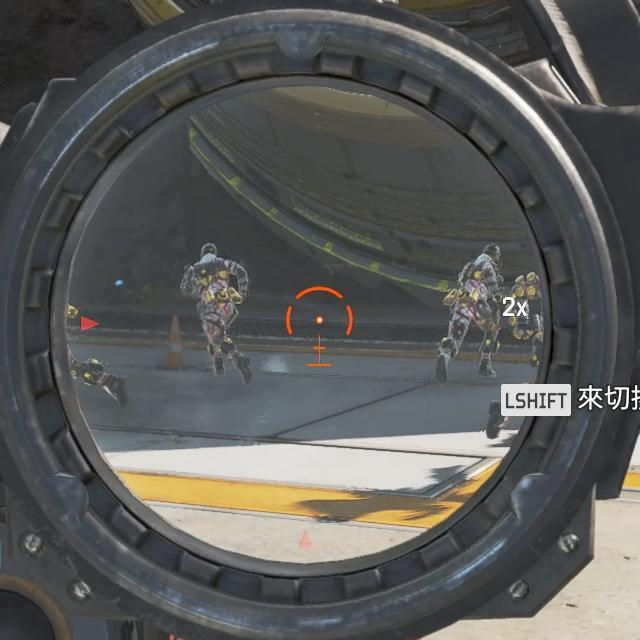avatar: (432, 242, 508, 387), (179, 243, 253, 384)
